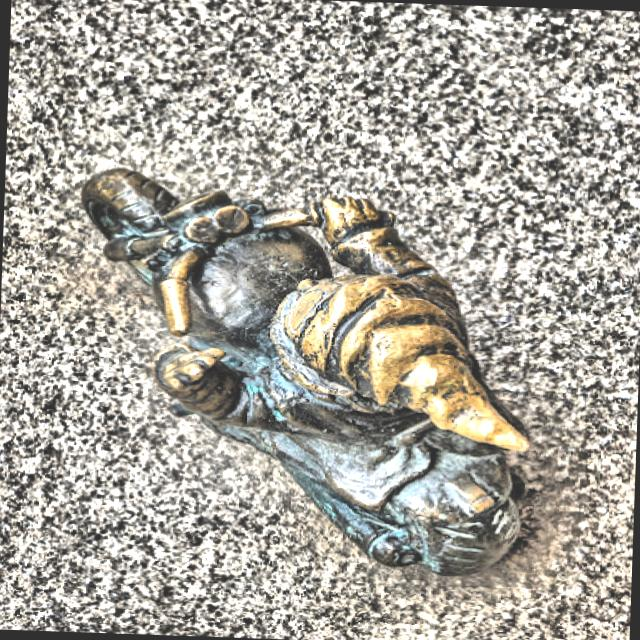Wentyl: (82, 169, 527, 573)
